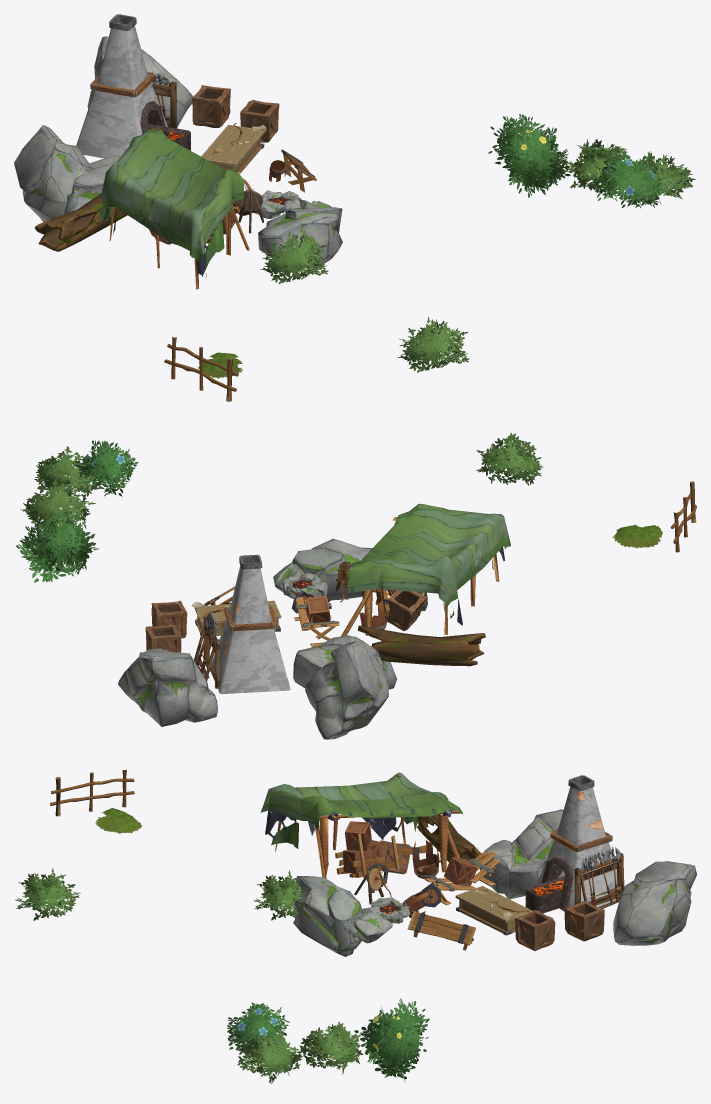
The model's file is MainCityDecor_Smith_Ruins.glb.
3 renders of one model, top to bottom at view 1: azimuth 30°, elevation 25°; view 2: azimuth 150°, elevation 25°; view 3: azimuth 270°, elevation 25°, orthographic. The views are drawn at different scales.
Visible parts, largest first — view 1: MMarket_Pavillion_Tent_LOD2__un5707061034370833660, EnvMaincity_Detail__Furnance__u6245598171010982660, SM_Gray_Stone_Small_01_LOD0__u4244385399526351620, EnvDetail__Bush___221_2__u2069485658630152964, SM_Gray_Stone_Small_02_LOD0__u550909790608974596, EnvDetail__Bush___15__u3357153023426388740, EnvDetail__Bush___20_1__u3051252550705832708, EnvDetail_Deadwood___3__un7440219361860164860, EnvDetail__Bush___20__u3390331799340737284, EnvMaincity_Detail__Table___1__u120758958134551300, EnvDetail__Bush___20_3__u7661553818907992836, SM_Gray_Stone_Small_01_LOD0__u5342747136777806596 (+7 smaller); view 2: MMarket_Pavillion_Tent_LOD2__un5707061034370833660, EnvMaincity_Detail__Furnance__u6245598171010982660, SM_Gray_Stone_Small_01_LOD0__u4244385399526351620, SM_Gray_Stone_Small_01_LOD0__u5342747136777806596, EnvDetail__Bush___221_2__u2069485658630152964, EnvDetail_Deadwood___3__un7440219361860164860, SM_Gray_Stone_Small_02_LOD0__u550909790608974596, EnvDetail__Bush___20_1__u3051252550705832708, EnvDetail__Bush___15__u3357153023426388740, EnvDetail__Bush___20_3__u7661553818907992836, SM_Gray_Stone_Small_03_LOD0__un4049592837561687292, EnvDetail__Bush___20_2__un7104975735905819900 (+9 smaller); view 3: MMarket_Pavillion_Tent_LOD2__un5707061034370833660, EnvMaincity_Detail__Furnance__u6245598171010982660, SM_Gray_Stone_Small_01_LOD0__u5342747136777806596, SM_Gray_Stone_Small_02_LOD0__u550909790608974596, EnvDetail__Bush___221_2__u2069485658630152964, SM_Gray_Stone_Small_03_LOD0__un4049592837561687292, EnvDetail__Bush___20_3__u7661553818907992836, EnvDetail__Bush___20_2__un7104975735905819900, EnvMaincity_Detail__Table___1__u120758958134551300, EnvDetail__Bush___20_1__u3051252550705832708, EnvDetail__Bush___15__u3357153023426388740, SM_Gray_Stone_Small_01_LOD0__u4244385399526351620 (+15 smaller).
Boxes of the visible parts, bbox=[...] form: MMarket_Pavillion_Tent_LOD2__un5707061034370833660: bbox=[99, 128, 249, 289]; EnvMaincity_Detail__Furnance__u6245598171010982660: bbox=[76, 14, 190, 158]; SM_Gray_Stone_Small_01_LOD0__u4244385399526351620: bbox=[14, 125, 92, 222]; EnvDetail__Bush___221_2__u2069485658630152964: bbox=[488, 113, 570, 197]; SM_Gray_Stone_Small_02_LOD0__u550909790608974596: bbox=[258, 207, 342, 267]; EnvDetail__Bush___15__u3357153023426388740: bbox=[590, 150, 665, 208]; EnvDetail__Bush___20_1__u3051252550705832708: bbox=[397, 316, 469, 372]; EnvDetail_Deadwood___3__un7440219361860164860: bbox=[34, 193, 127, 251]; EnvDetail__Bush___20__u3390331799340737284: bbox=[260, 231, 328, 284]; EnvMaincity_Detail__Table___1__u120758958134551300: bbox=[201, 124, 264, 173]; EnvDetail__Bush___20_3__u7661553818907992836: bbox=[560, 139, 635, 190]; SM_Gray_Stone_Small_01_LOD0__u5342747136777806596: bbox=[87, 36, 193, 127]; MMarket_Pavillion_Tent_LOD2__un5707061034370833660: bbox=[341, 503, 510, 636]; EnvMaincity_Detail__Furnance__u6245598171010982660: bbox=[212, 554, 290, 693]; SM_Gray_Stone_Small_01_LOD0__u4244385399526351620: bbox=[305, 641, 388, 739]; SM_Gray_Stone_Small_01_LOD0__u5342747136777806596: bbox=[118, 648, 217, 726]; EnvDetail__Bush___221_2__u2069485658630152964: bbox=[16, 509, 99, 582]; EnvDetail_Deadwood___3__un7440219361860164860: bbox=[357, 625, 485, 666]; SM_Gray_Stone_Small_02_LOD0__u550909790608974596: bbox=[292, 539, 372, 602]; EnvDetail__Bush___20_1__u3051252550705832708: bbox=[476, 432, 543, 485]; EnvDetail__Bush___15__u3357153023426388740: bbox=[75, 440, 138, 496]; EnvDetail__Bush___20_3__u7661553818907992836: bbox=[20, 479, 95, 528]; SM_Gray_Stone_Small_03_LOD0__un4049592837561687292: bbox=[293, 635, 396, 689]; EnvDetail__Bush___20_2__un7104975735905819900: bbox=[34, 446, 102, 499]; MMarket_Pavillion_Tent_LOD2__un5707061034370833660: bbox=[260, 772, 462, 878]; EnvMaincity_Detail__Furnance__u6245598171010982660: bbox=[525, 775, 624, 913]; SM_Gray_Stone_Small_01_LOD0__u5342747136777806596: bbox=[613, 861, 696, 945]; SM_Gray_Stone_Small_02_LOD0__u550909790608974596: bbox=[292, 876, 362, 956]; EnvDetail__Bush___221_2__u2069485658630152964: bbox=[354, 998, 429, 1082]; SM_Gray_Stone_Small_03_LOD0__un4049592837561687292: bbox=[480, 840, 545, 895]; EnvDetail__Bush___20_3__u7661553818907992836: bbox=[299, 1021, 363, 1074]; EnvDetail__Bush___20_2__un7104975735905819900: bbox=[237, 1030, 303, 1083]; EnvMaincity_Detail__Table___1__u120758958134551300: bbox=[455, 886, 532, 935]; EnvDetail__Bush___20_1__u3051252550705832708: bbox=[15, 868, 80, 920]; EnvDetail__Bush___15__u3357153023426388740: bbox=[227, 1002, 289, 1058]; SM_Gray_Stone_Small_01_LOD0__u4244385399526351620: bbox=[504, 809, 563, 899].
Bounding box in the file's own units: 21.94 × 6.18 × 23.56.
Materials: 27 (27 with a texture image).
